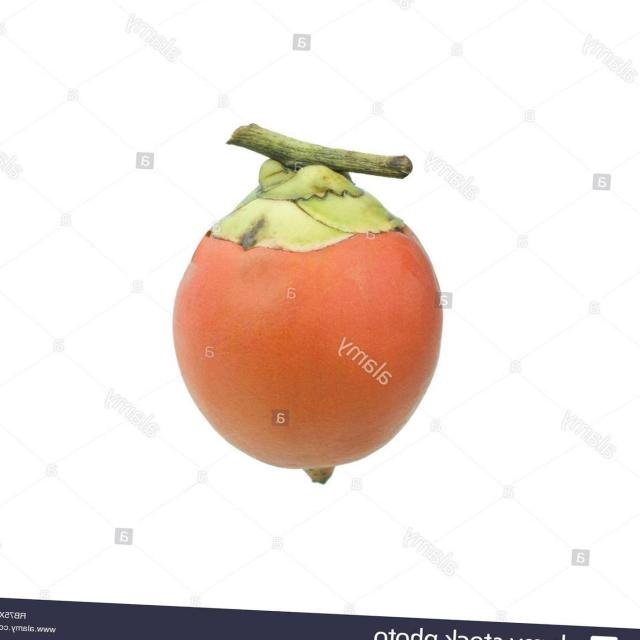good: (172, 161, 443, 484)
